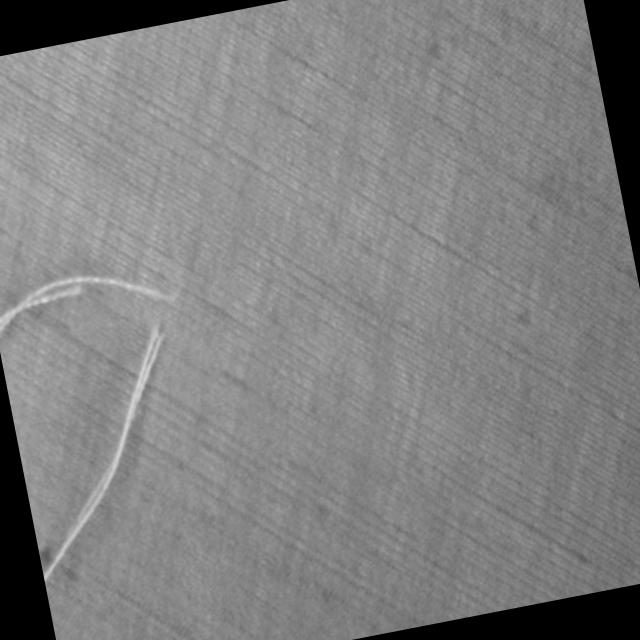Thread: (0, 315, 211, 583), (0, 253, 184, 341)
